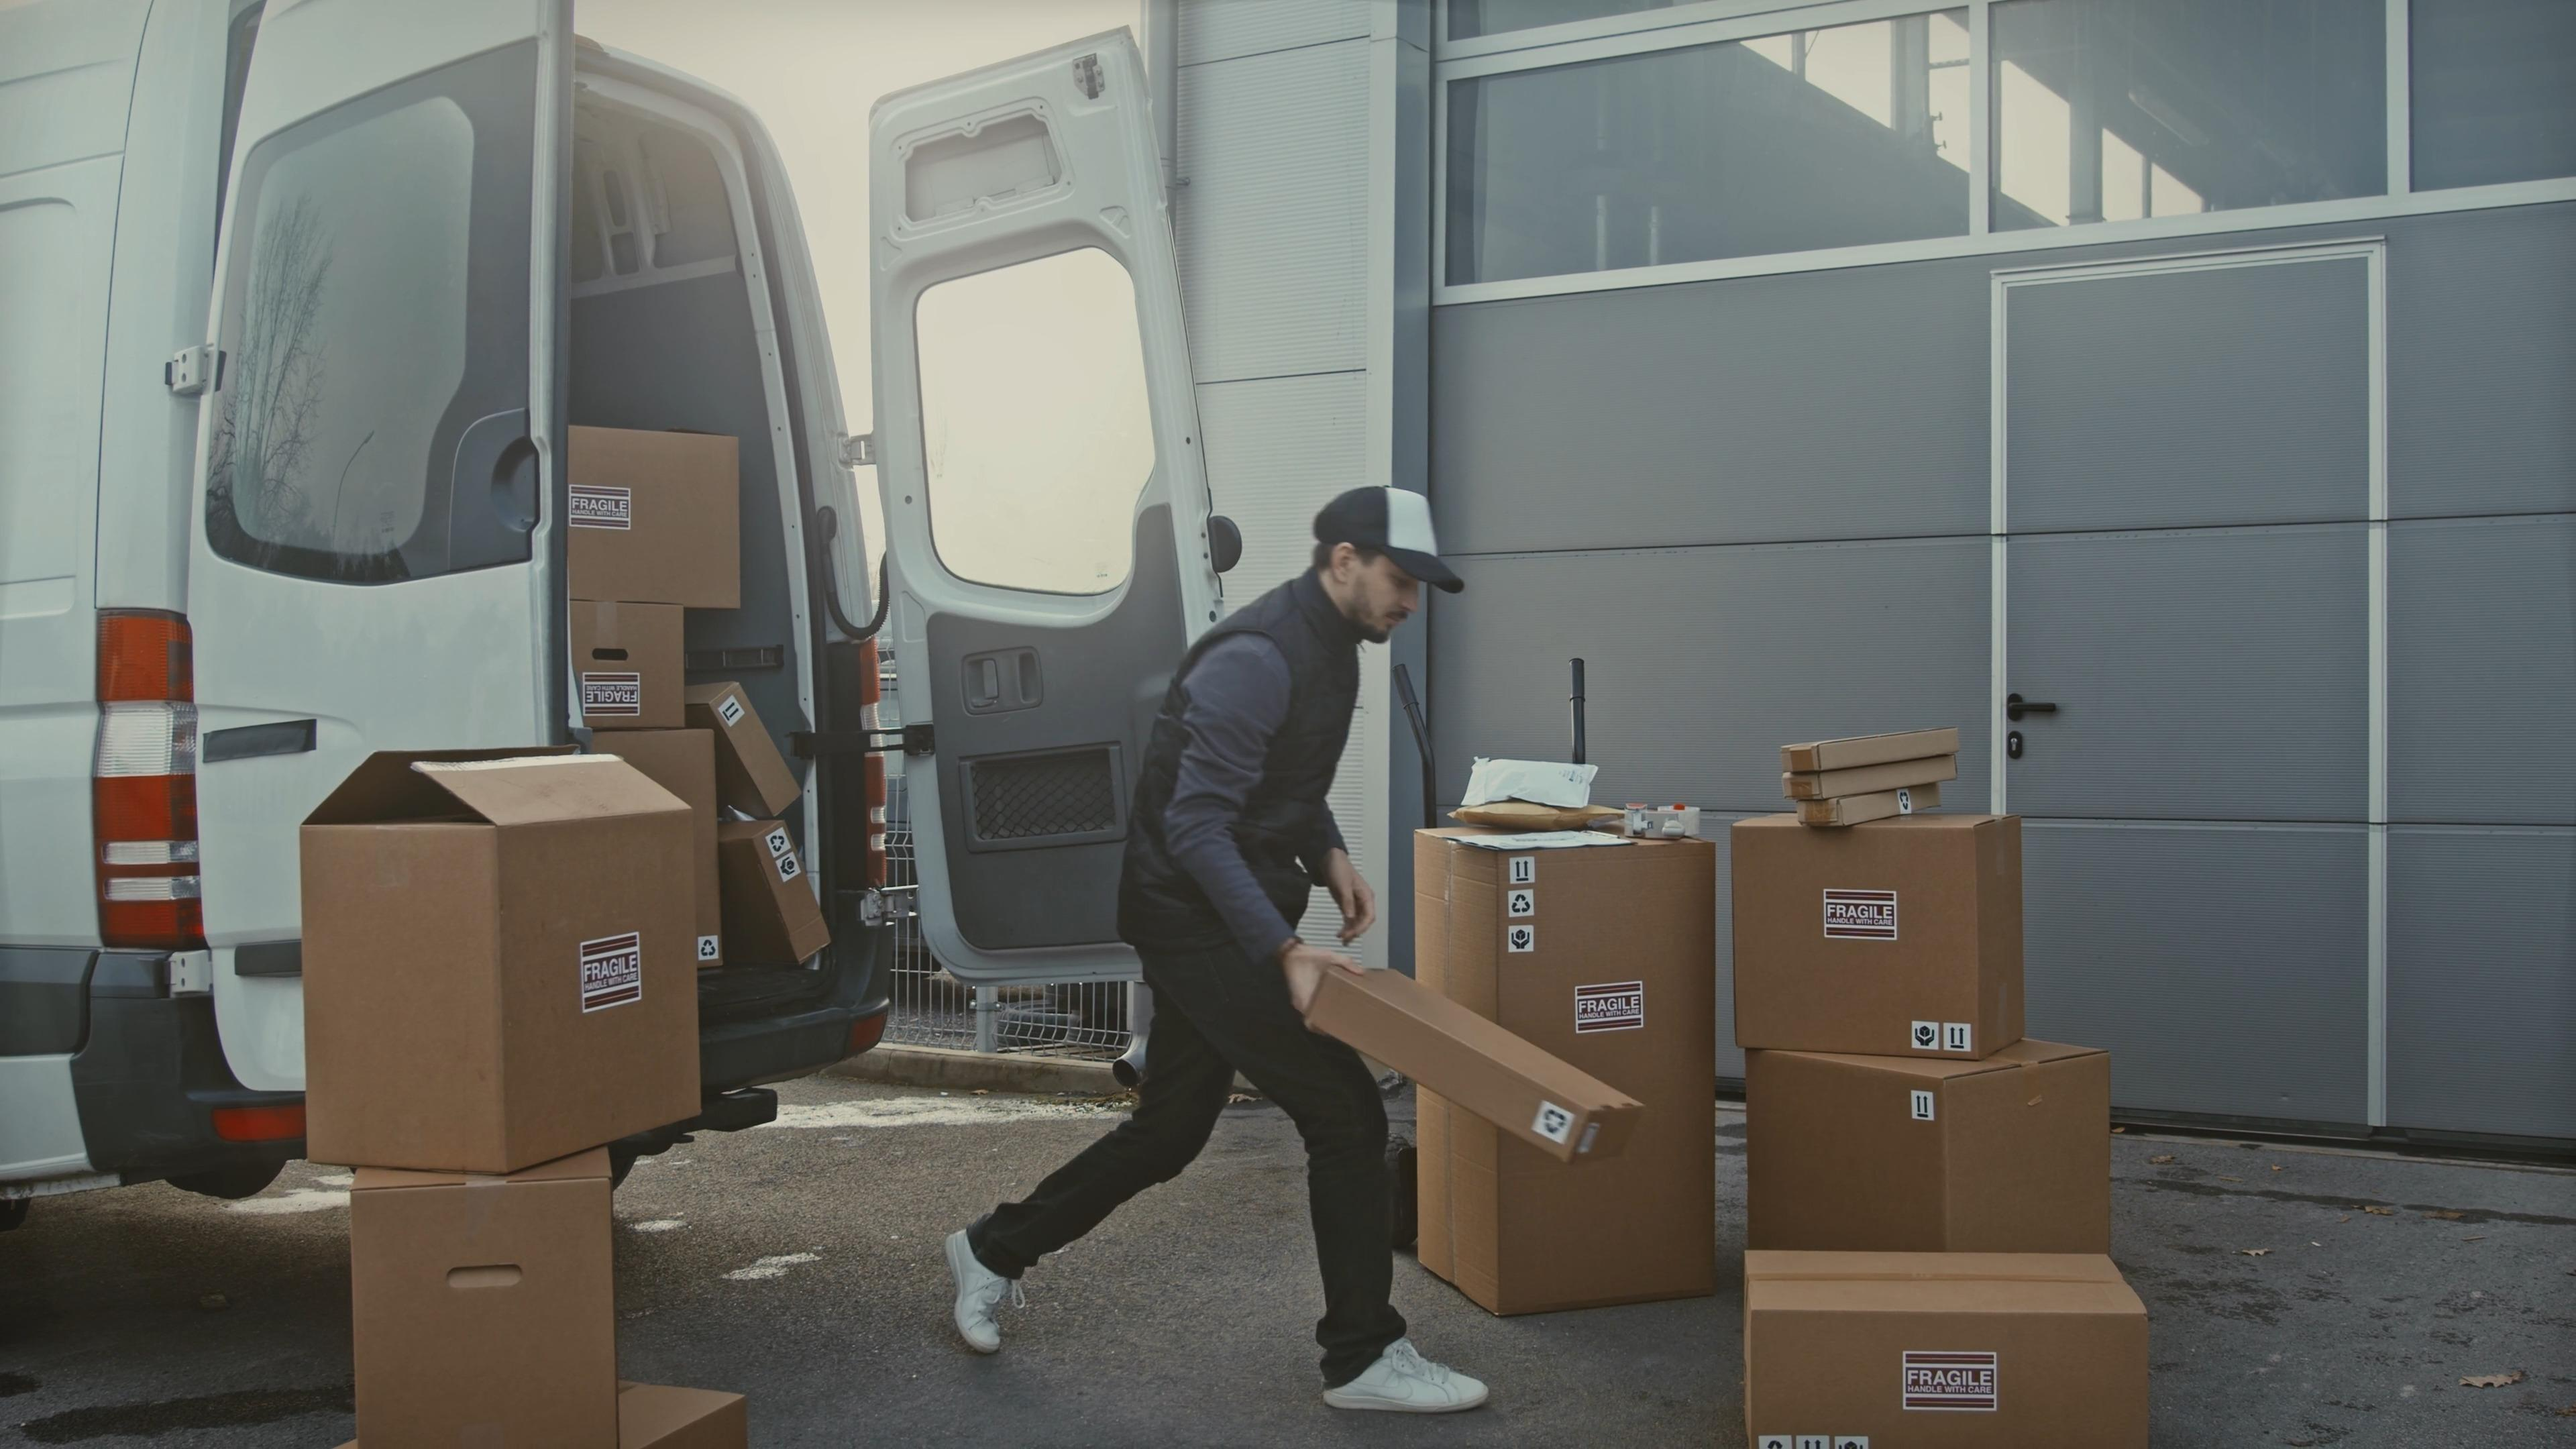-: (288, 745, 704, 1178), (1407, 823, 1716, 1320), (1741, 1253, 2157, 1449), (340, 1171, 632, 1449), (1302, 943, 1637, 1178), (1752, 1051, 2105, 1265), (1736, 809, 2028, 1058), (557, 419, 750, 609), (575, 605, 697, 727)
